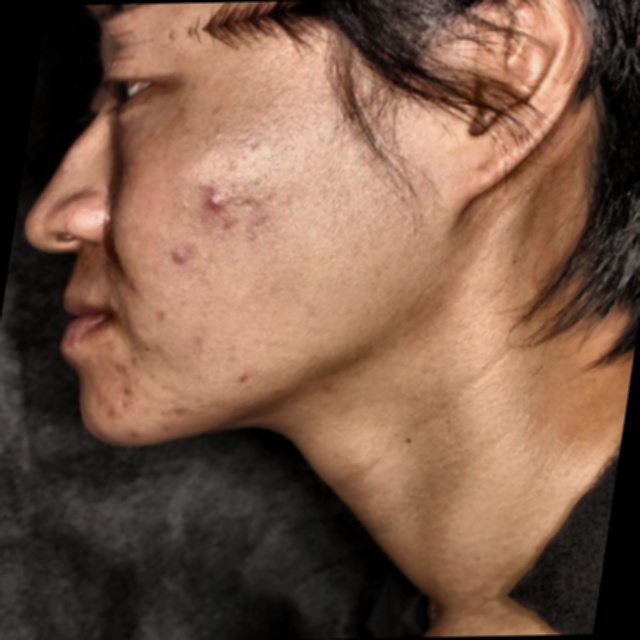comedone: (98, 381, 145, 429), (151, 393, 192, 439), (195, 186, 248, 221), (154, 244, 198, 276), (119, 269, 149, 295)
